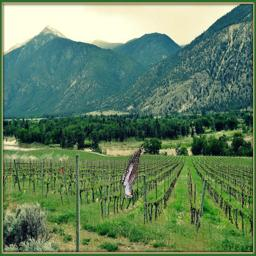Cuckoo: (123, 144, 144, 198)
